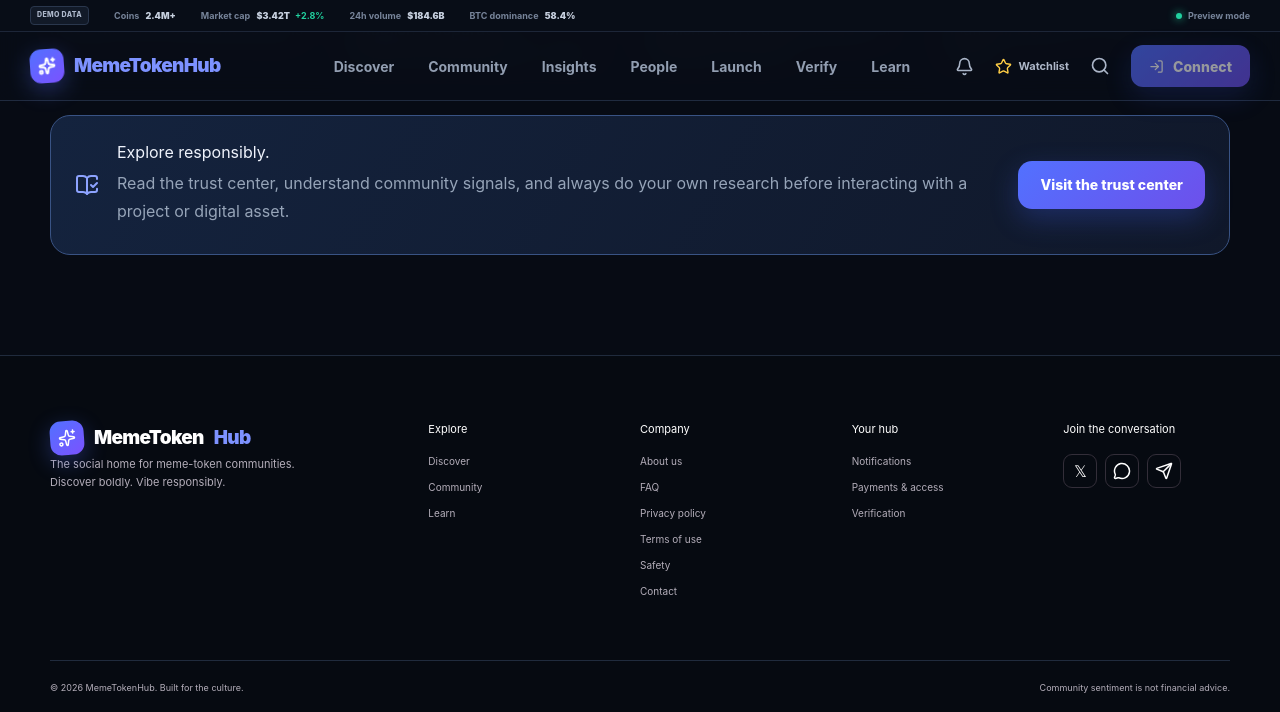
MemeTokenHub application › scrolls to the top when a footer link opens another page
(page scrolled)
Click the link "Terms of use" at (671, 539), box [640,533,702,545]
(page scrolled)
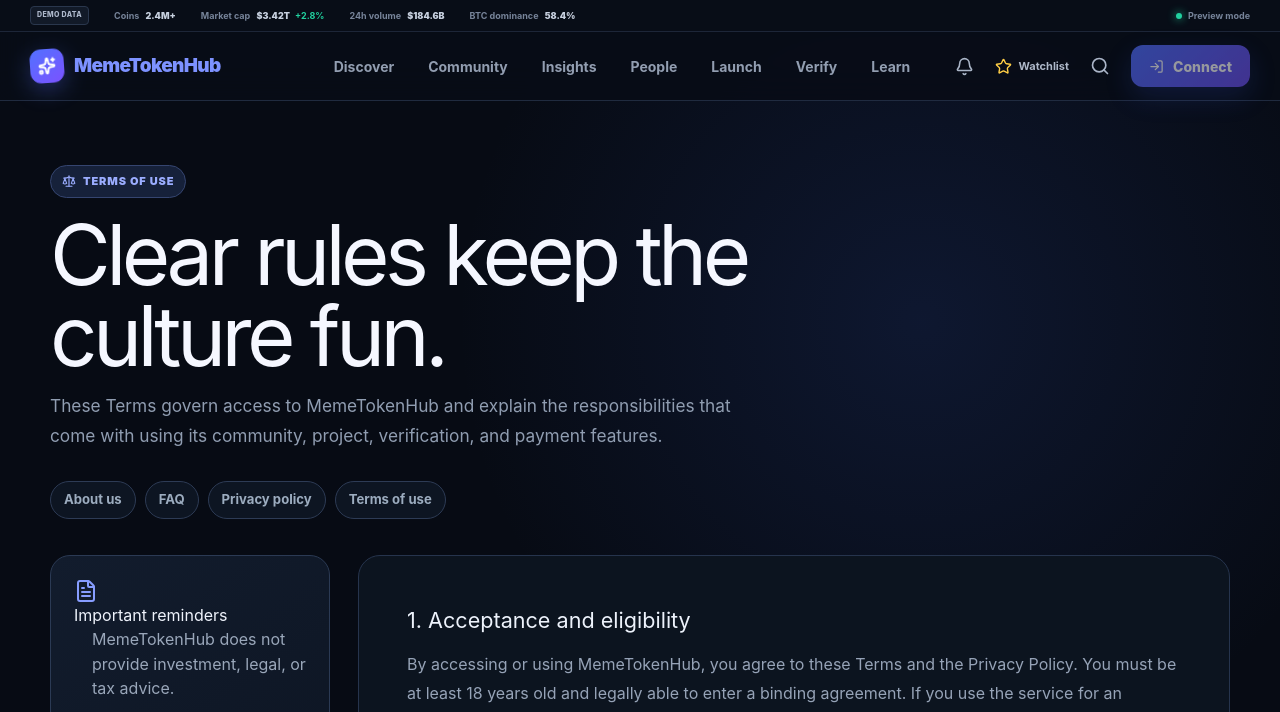
Now the heading "Clear rules keep the culture fun." is shown, box [50,204,747,386]
